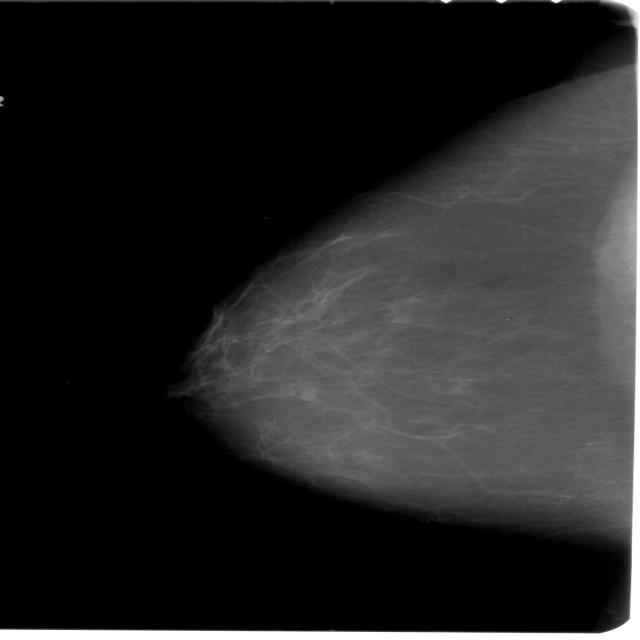normal: (146, 69, 640, 532)
